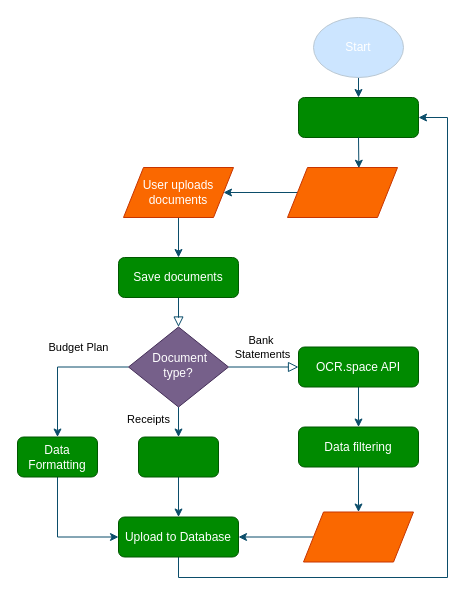
The diagram is 473 pixels wide and 603 high, and some of its shapes have lost their labels. The shapes that lost their labels are listed below. From the top down, each one's centre as x and y in pixels, then its label:
At (358,117): "Retreive Data from database".
At (342,192): "Front-end Interface".
At (178,456): "Mindee".
At (358,536): "Export csvs".
